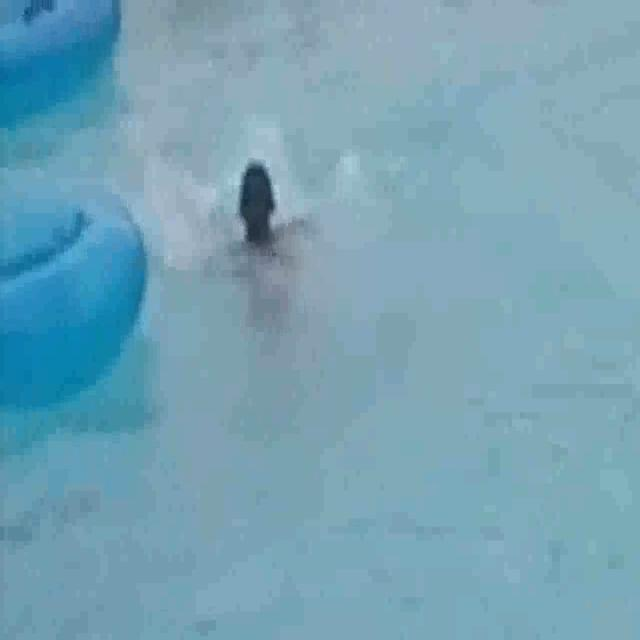drowning: (169, 123, 351, 377)
